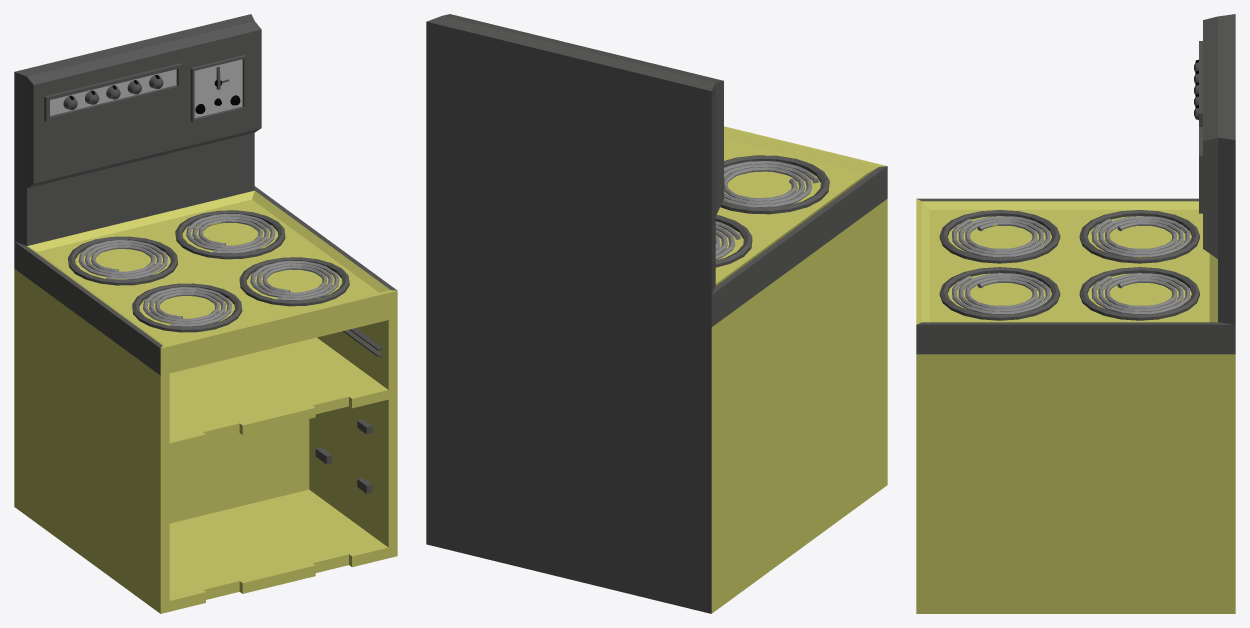
Rendered from _ven_Main.fbx.
3 views of the same model, side by side, from view 1: azimuth 30°, elevation 25°; view 2: azimuth 150°, elevation 25°; view 3: azimuth 270°, elevation 25° (orthographic). The views are drawn at different scales.
Visible parts, largest first — view 1: Cylinder.044; view 2: Cylinder.044; view 3: Cylinder.044.
Boxes of the visible parts, x1=… form: Cylinder.044: x1=14, y1=14, x2=397, y2=613; Cylinder.044: x1=426, y1=14, x2=887, y2=613; Cylinder.044: x1=916, y1=14, x2=1235, y2=613.
Size of the model in its own units: 93.98 by 165 by 101.
